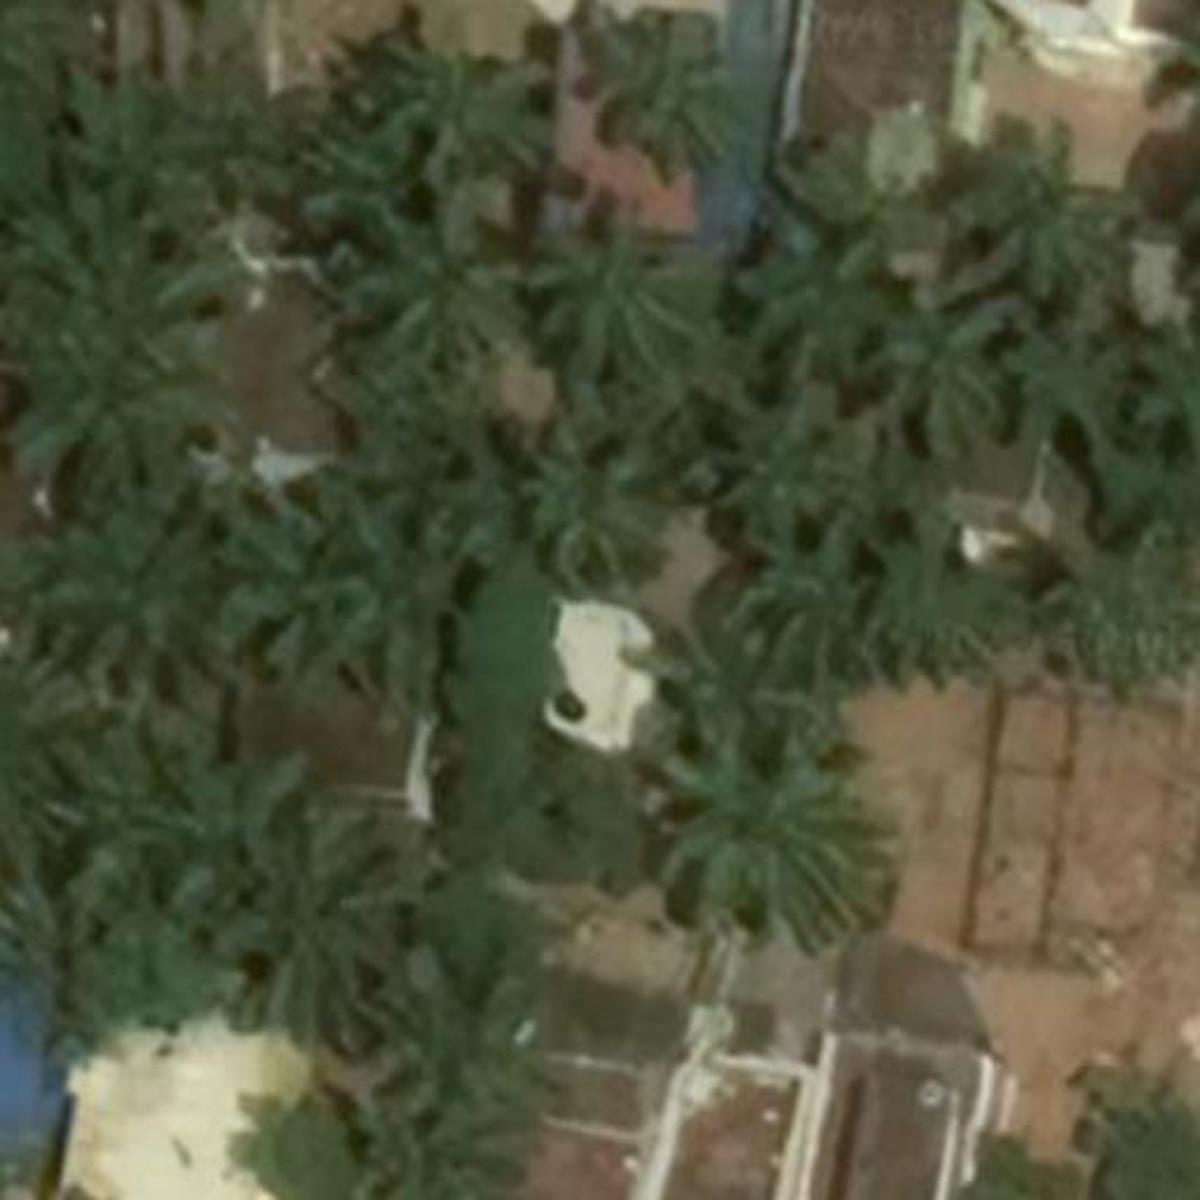coconut: (632, 693, 900, 953), (11, 175, 253, 377), (707, 195, 935, 405), (225, 827, 426, 1052), (11, 351, 243, 522), (841, 503, 1042, 696), (309, 196, 529, 360), (522, 187, 700, 386), (370, 23, 584, 187), (327, 495, 489, 703), (7, 658, 147, 890), (848, 284, 1031, 459), (949, 114, 1122, 295), (513, 421, 693, 588), (203, 489, 367, 667), (588, 11, 768, 171), (377, 944, 574, 1089), (677, 403, 874, 546), (337, 1075, 557, 1200), (58, 496, 227, 658), (65, 63, 246, 213), (727, 510, 878, 686), (1005, 300, 1149, 480), (149, 766, 321, 914), (2, 884, 159, 1019), (625, 607, 787, 721)
